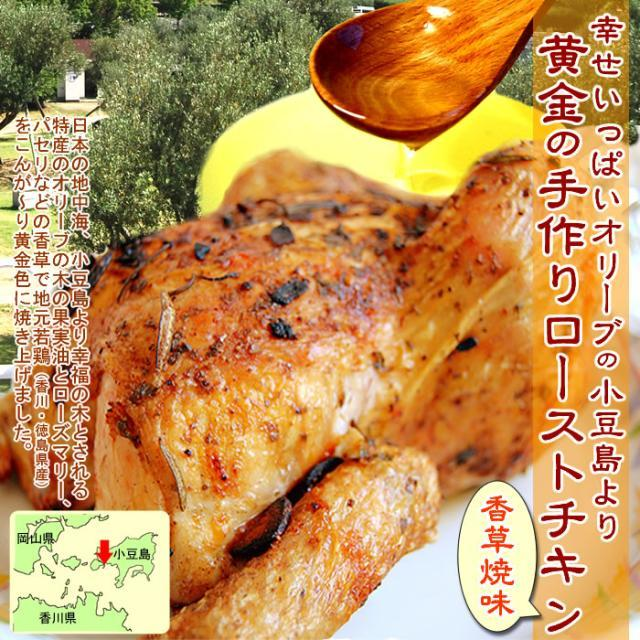Chicken: (110, 164, 520, 478), (0, 0, 1, 1)
